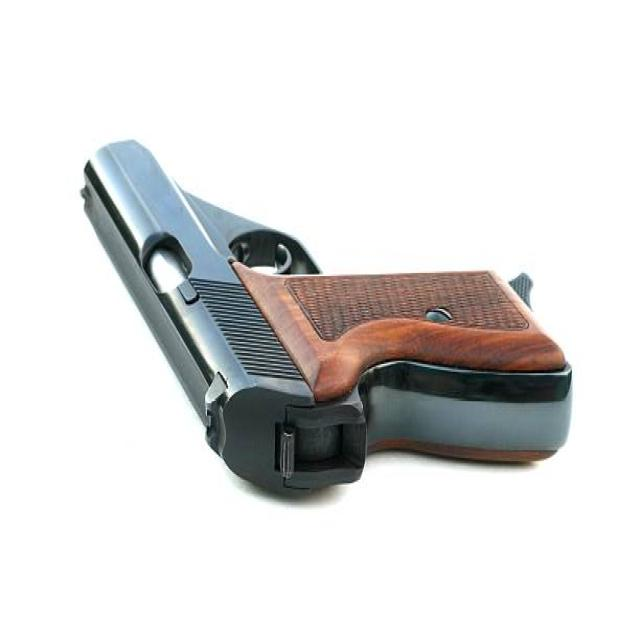pistol: (75, 127, 577, 512)
